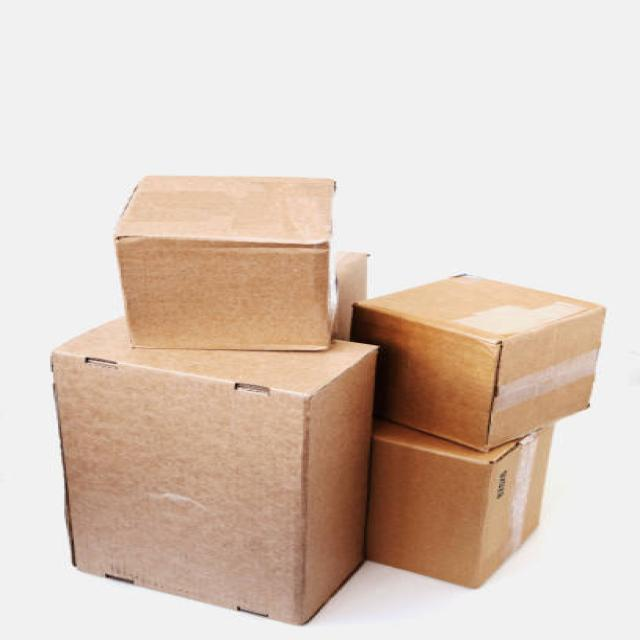electronic: (48, 315, 380, 625), (350, 272, 605, 453), (111, 174, 338, 352), (364, 418, 554, 589), (331, 250, 370, 341)
